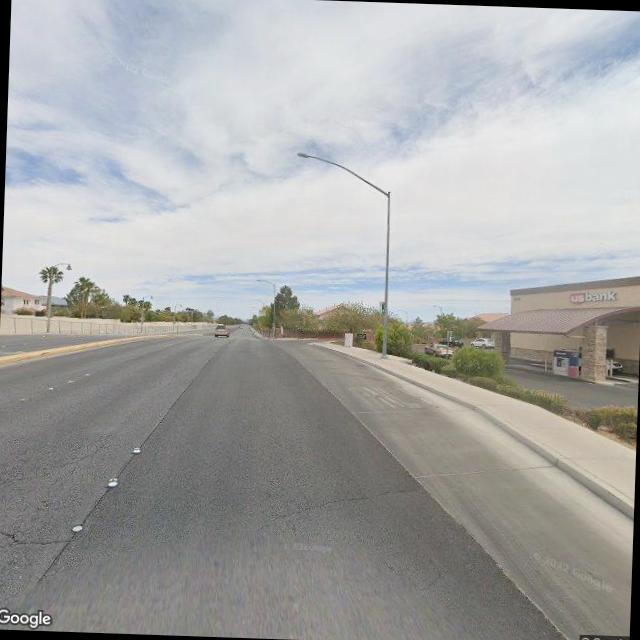crack: (260, 478, 417, 526), (0, 522, 68, 549)
